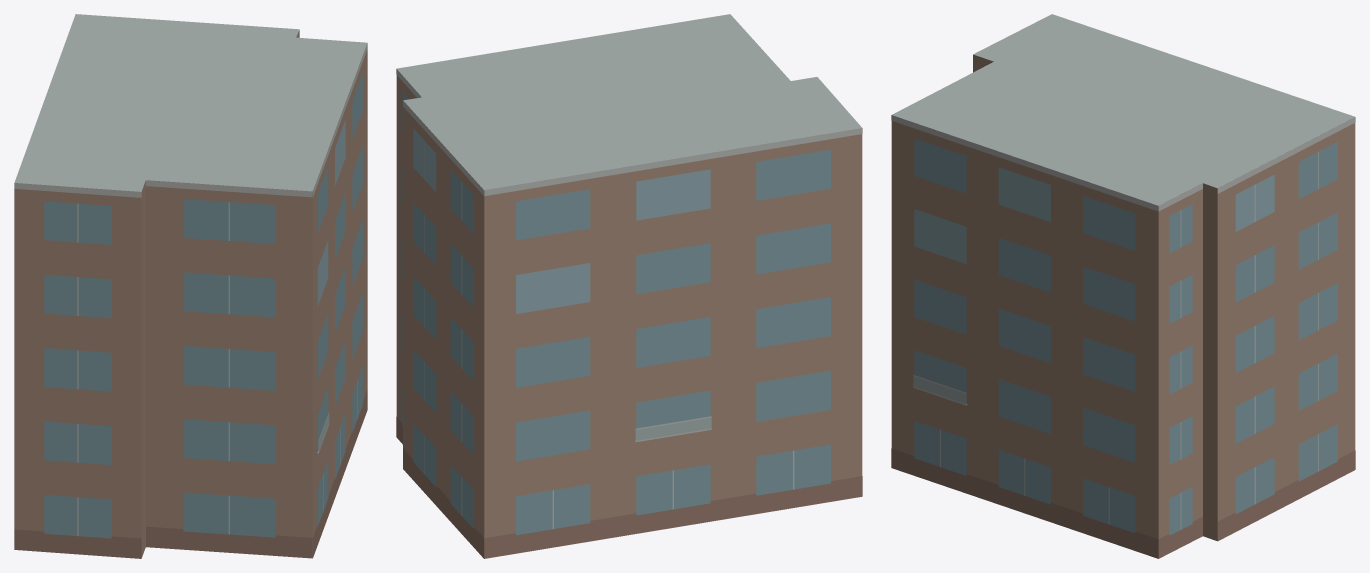
File: survey-upis-32594270.glb
The picture shows the model from 3 angles, left to right: view 1: azimuth 30°, elevation 25°; view 2: azimuth 150°, elevation 25°; view 3: azimuth 270°, elevation 25°; orthographic projection. The views are drawn at different scales.
Parts seen in each view (by area): view 1: survey-upis-32594270.tmp; view 2: survey-upis-32594270.tmp; view 3: survey-upis-32594270.tmp.
Part boxes in pixels (x1,y1,x2,y2): survey-upis-32594270.tmp: (14, 14, 367, 558); survey-upis-32594270.tmp: (396, 14, 862, 558); survey-upis-32594270.tmp: (891, 14, 1355, 558).
Bounding box in the file's own units: 17.6 × 15.1 × 17.99.
